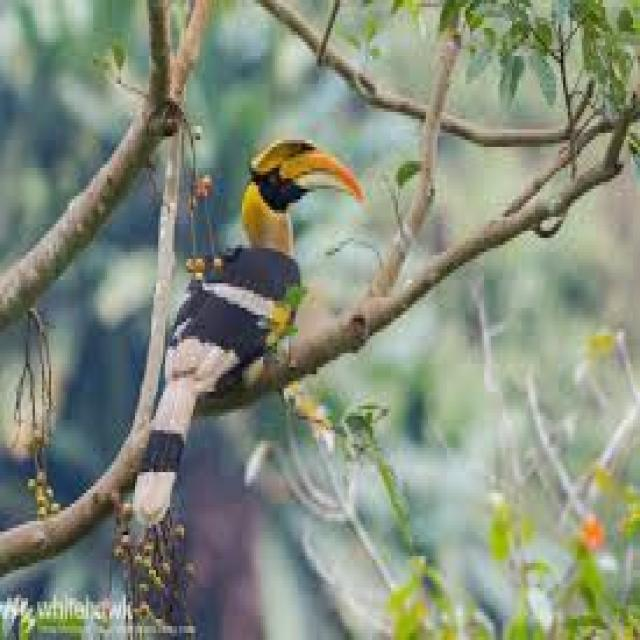Hornbill: (121, 121, 364, 536)
